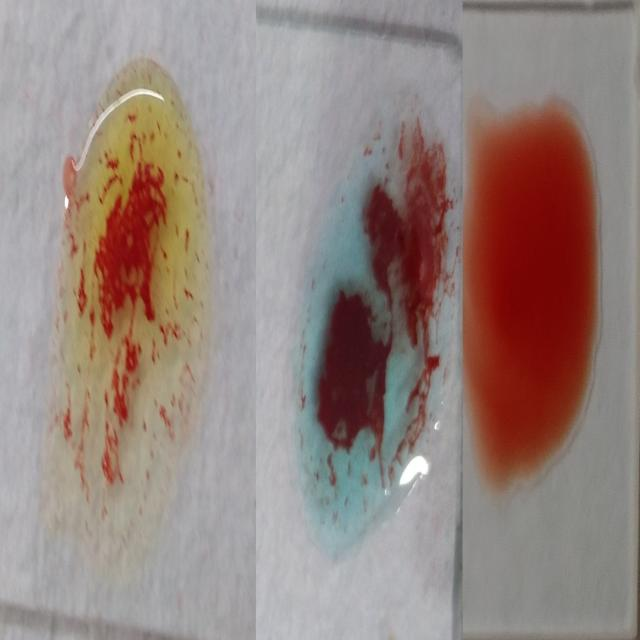A: (297, 81, 447, 544)
B: (52, 58, 204, 582)
